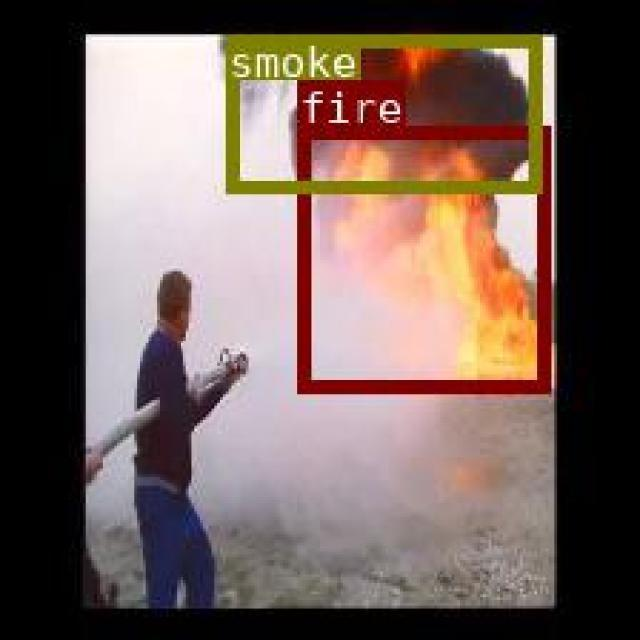fire: (296, 125, 546, 390)
smoke: (223, 33, 538, 191)
